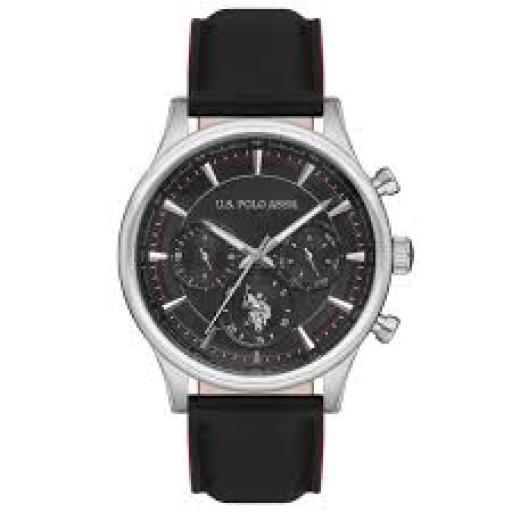KolSaati: (118, 6, 422, 512)
